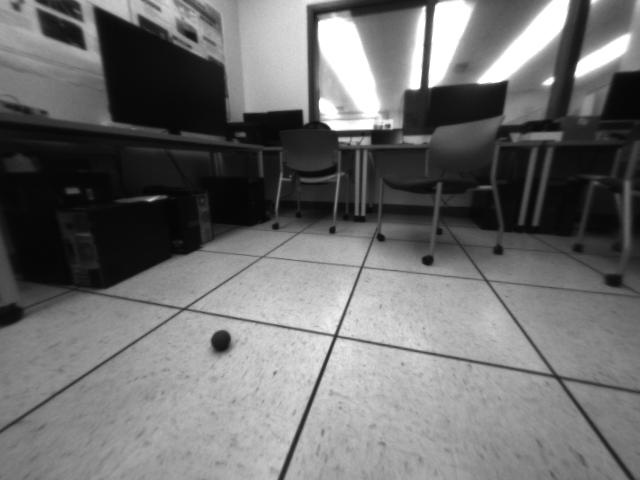dogtoy: (205, 326, 240, 358)
